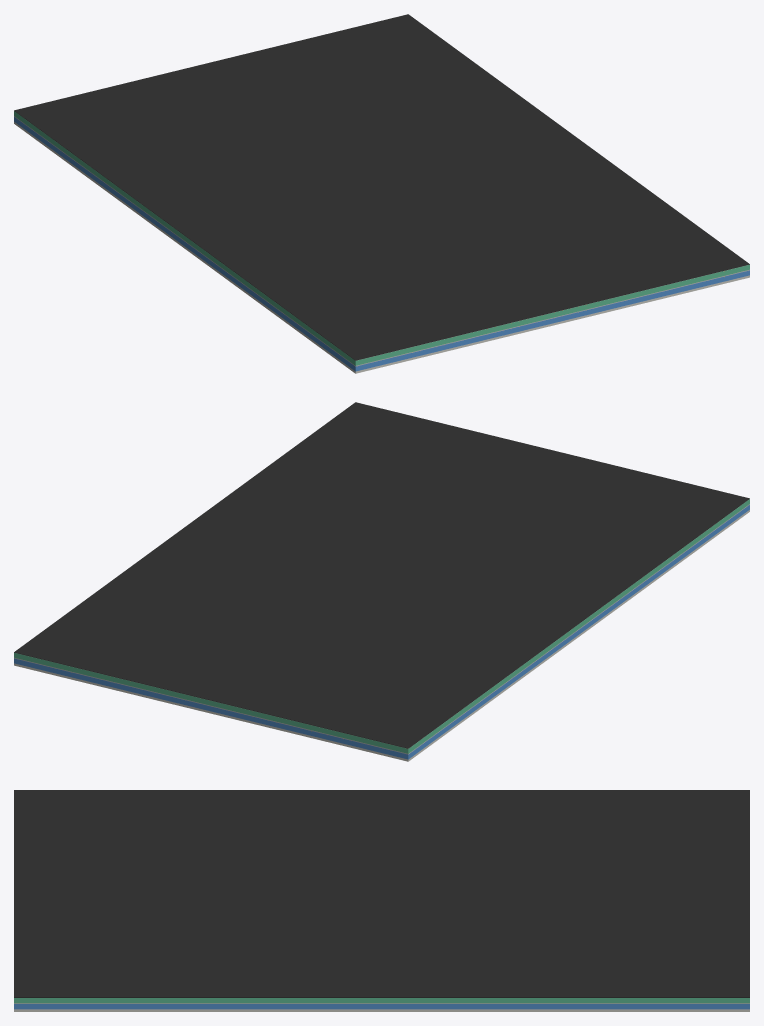
The model's file is scintillator_unit_single_with_grooves_and_fibers.glb.
3 views of the same model, one above another, from view 1: azimuth 30°, elevation 25°; view 2: azimuth 150°, elevation 25°; view 3: azimuth 270°, elevation 25° (orthographic). The views are drawn at different scales.
Parts seen in each view (by area): view 1: black_sheet, scintillator_bar_0, scintillator_bar_4, styrofoam, separator_plate; view 2: black_sheet, scintillator_bar_0, scintillator_bar_4, styrofoam, separator_plate; view 3: black_sheet, scintillator_bar_7, scintillator_bar_3, styrofoam, tyvek_sheet_3, separator_plate, tyvek_sheet_1.
Part boxes in pixels (bbox=[...]): black_sheet: bbox=[14, 14, 749, 360]; scintillator_bar_0: bbox=[14, 111, 454, 365]; scintillator_bar_4: bbox=[14, 117, 454, 371]; styrofoam: bbox=[14, 122, 749, 373]; separator_plate: bbox=[14, 116, 749, 366]; black_sheet: bbox=[14, 402, 749, 748]; scintillator_bar_0: bbox=[309, 499, 749, 753]; scintillator_bar_4: bbox=[309, 505, 749, 759]; styrofoam: bbox=[14, 510, 749, 761]; separator_plate: bbox=[14, 504, 749, 754]; black_sheet: bbox=[14, 790, 749, 997]; scintillator_bar_7: bbox=[14, 1004, 749, 1009]; scintillator_bar_3: bbox=[14, 998, 749, 1003]; styrofoam: bbox=[14, 1009, 749, 1011]; tyvek_sheet_3: bbox=[14, 1009, 749, 1009]; separator_plate: bbox=[14, 1003, 749, 1003]; tyvek_sheet_1: bbox=[14, 1003, 749, 1003].
Size of the model in its own units: 1000 by 32.4 by 1500.
